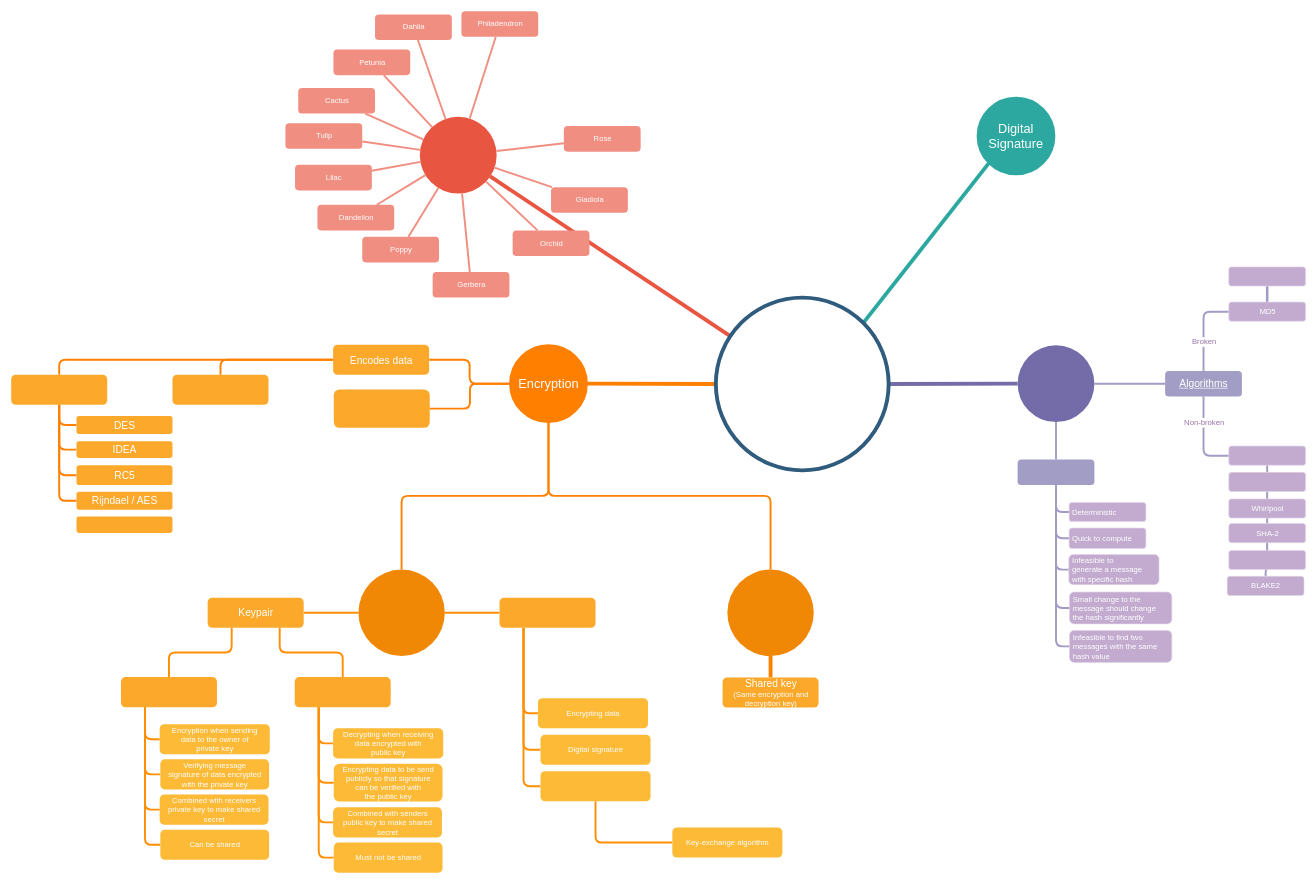
This 1316x883 diagram has some shape labels left out. Each missing label, with the box of its shape:
Applications: (499, 597, 595, 628)
Asymmetric (Public-key): (358, 569, 444, 656)
bcrypt: (1228, 472, 1306, 492)
Block ciphers: (11, 374, 107, 404)
Blowfish: (76, 516, 172, 533)
Certificates: (420, 116, 496, 193)
Cryptography: (714, 295, 890, 472)
Does not provide authenticity and integrity: (333, 389, 429, 428)
Hashing: (1017, 345, 1094, 422)
Hybrid cryptosystems: (540, 771, 650, 801)
Private key: (294, 677, 390, 707)
Properties: (1017, 459, 1094, 485)
Public key: (121, 677, 217, 707)
RIPEMD-160: (1228, 445, 1306, 465)
SHA-1: (1228, 266, 1306, 286)
SHA-3: (1228, 550, 1306, 570)
Stream ciphers: (172, 374, 268, 404)
Symmetric: (727, 569, 813, 656)
